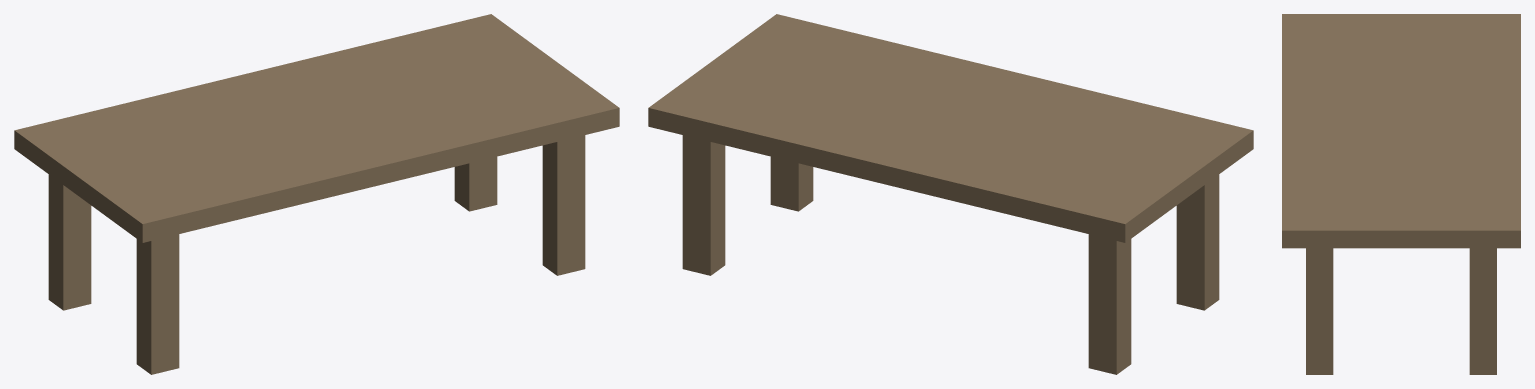
File: Table 1.fbx
The picture shows the model from 3 angles, left to right: view 1: azimuth 30°, elevation 25°; view 2: azimuth 150°, elevation 25°; view 3: azimuth 270°, elevation 25°; orthographic projection. The views are drawn at different scales.
Visible parts, largest first — view 1: Table; view 2: Table; view 3: Table.
Part boxes in pixels (x1,y1,x2,y2): Table: (14,14,619,374); Table: (648,14,1253,374); Table: (1282,14,1520,374).
Size of the model in its own units: 4.16 by 1.38 by 1.94.
